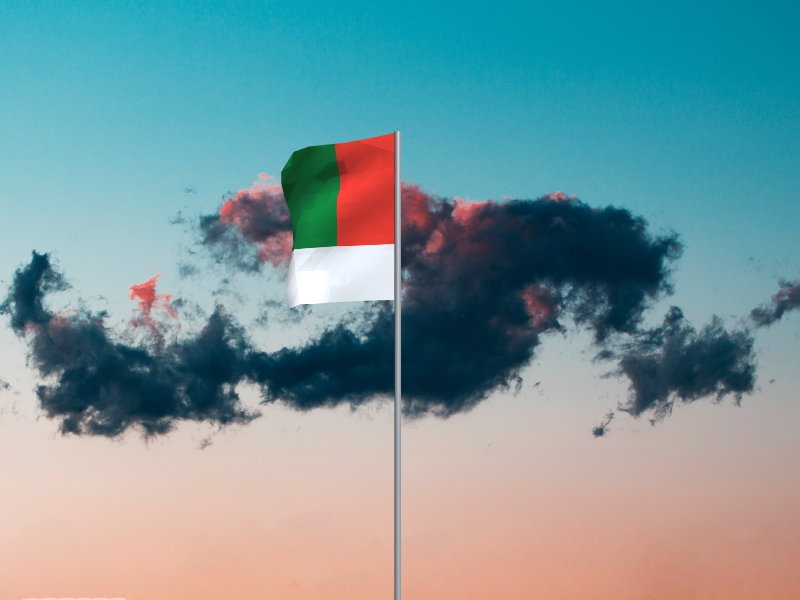mg: (280, 134, 395, 309)
